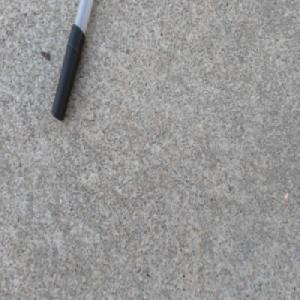Pen: (50, 0, 97, 123)
